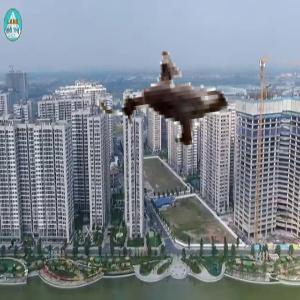drone: (94, 9, 262, 177)
